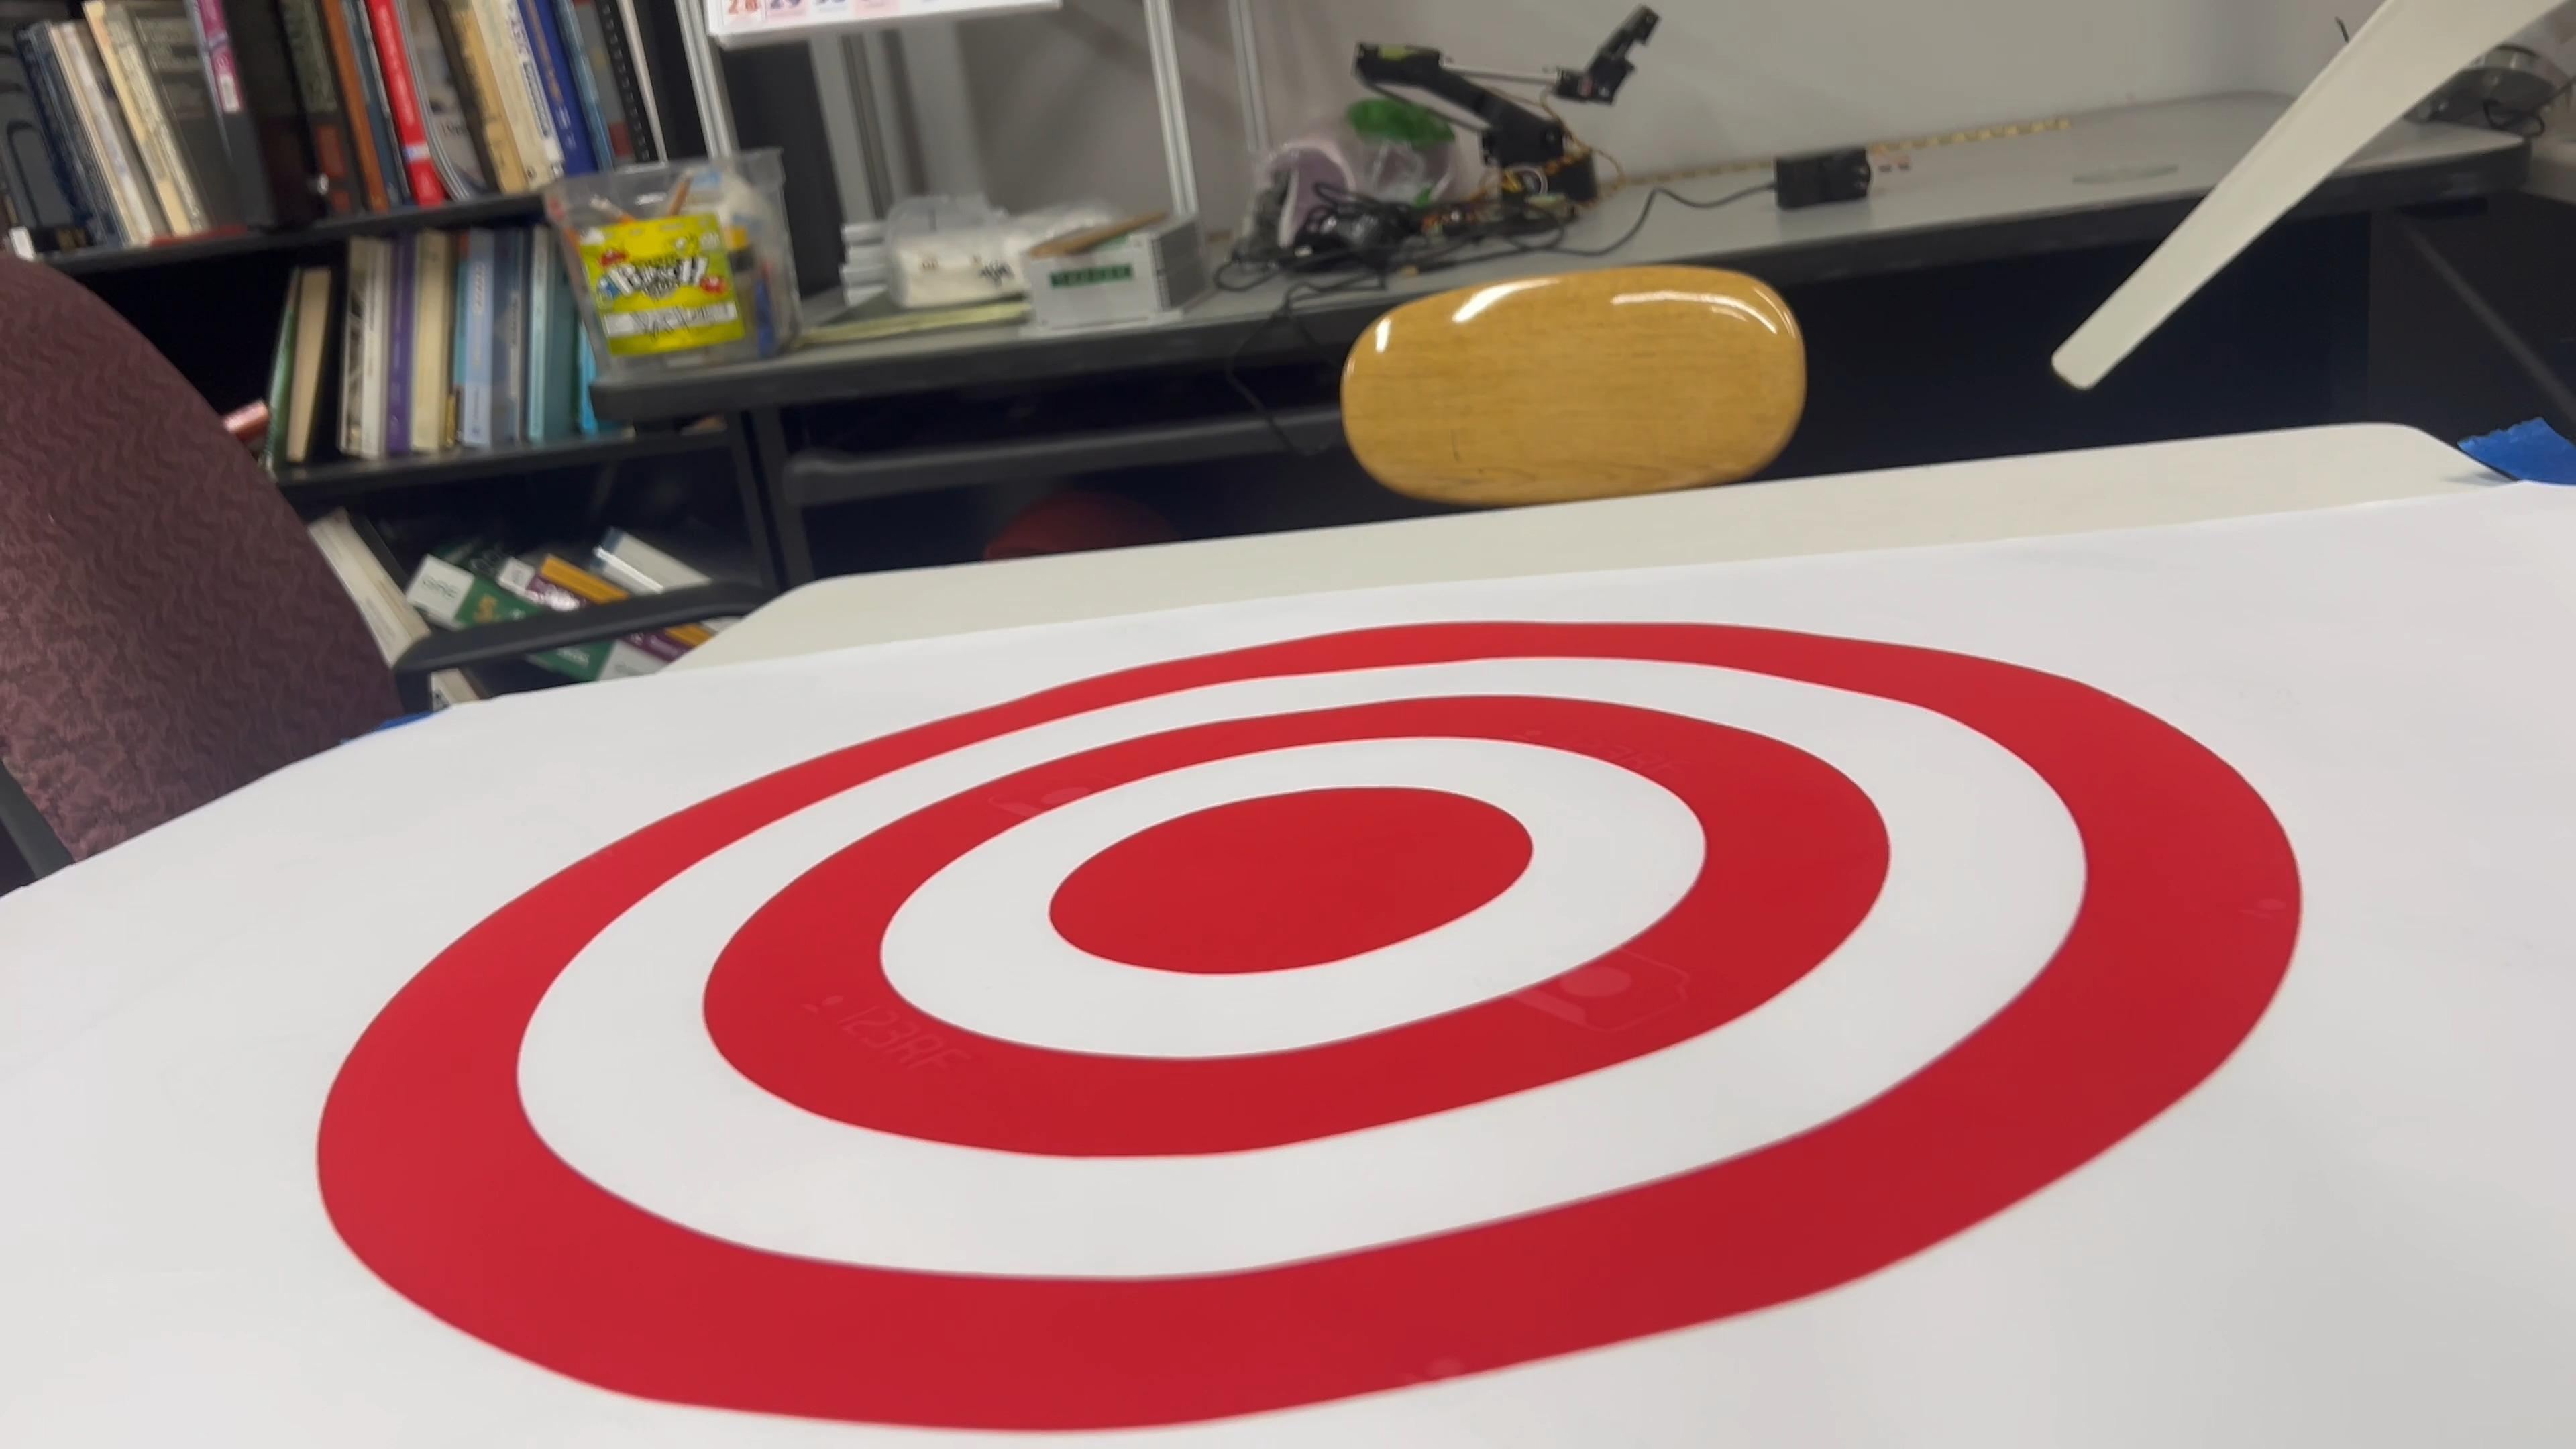target_red: (276, 602, 2351, 1447)
